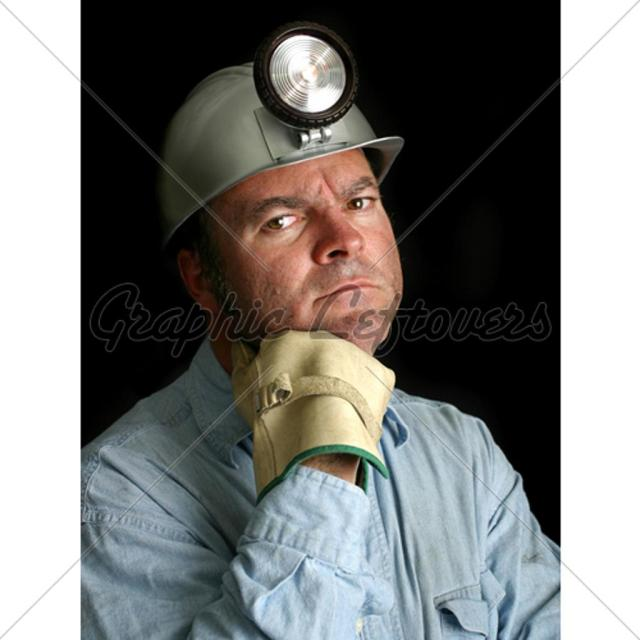Face: (215, 154, 403, 348)
